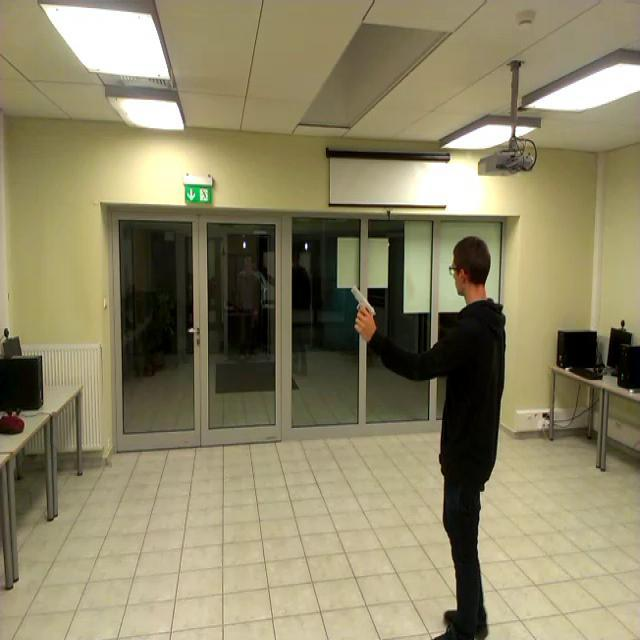Gun: (352, 284, 377, 330)
